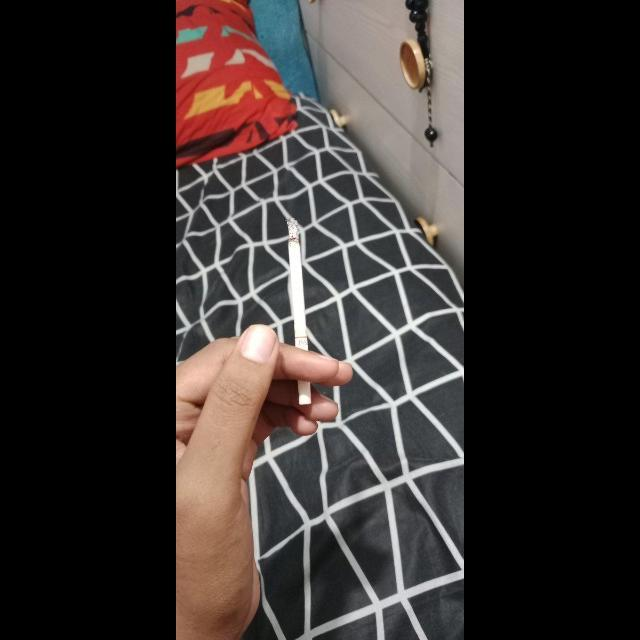rokok: (286, 216, 322, 412)
